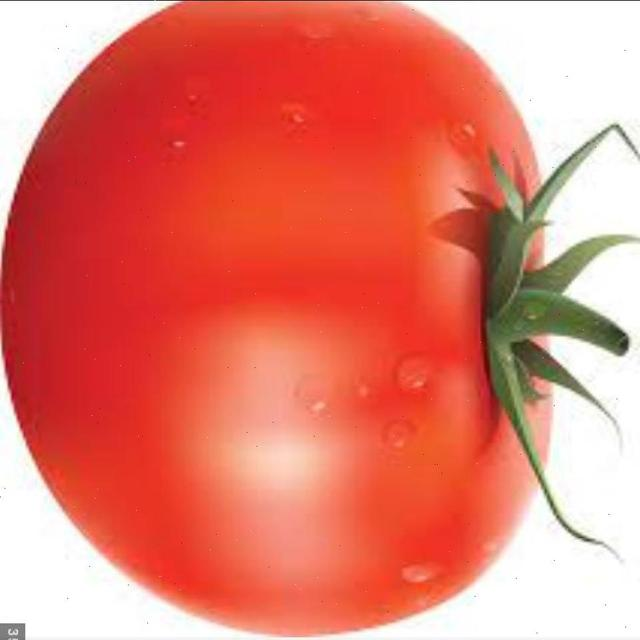Healthy Fruit: (0, 0, 390, 427)
